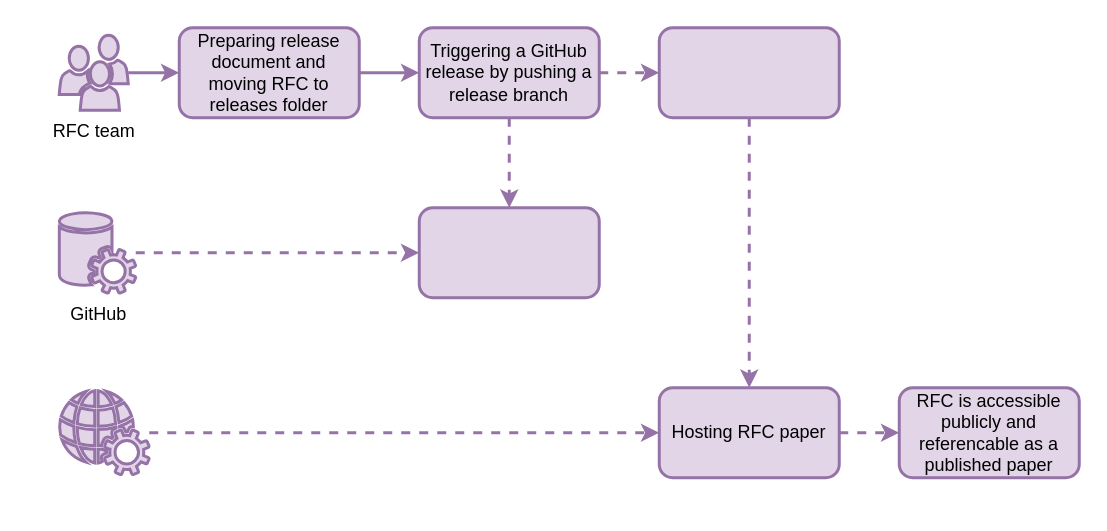
Some shapes in this 1107 by 531 pixel diagram are drawn without their labels. Each missing label, with the centre of its shape:
"Creating the release PDF and attaching it to GitHub release" belongs at point 508,252.
"Publication platform" belongs at point 103,432.
"Uploading PDF paper to publication platform" belongs at point 748,72.
